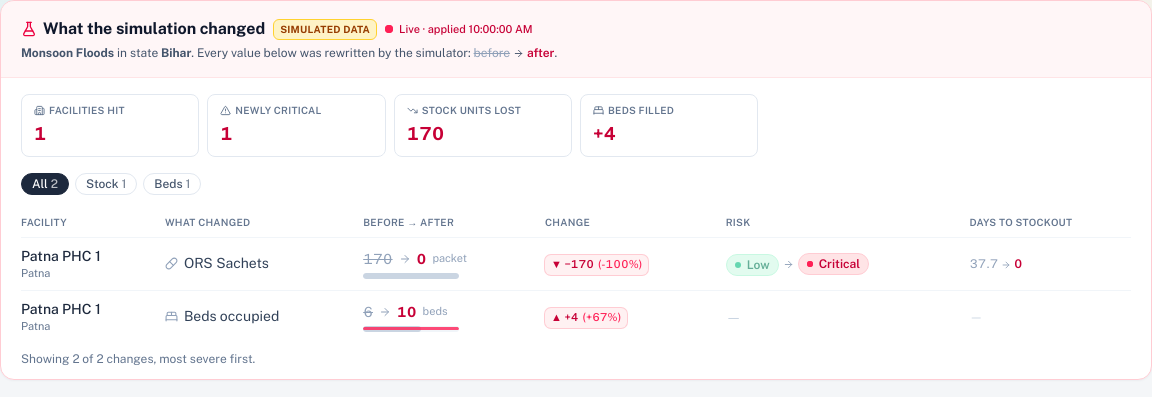
Test case: CrisisImpactPanel › filters rows by change type
Click the tab "Beds 1" at (172, 184), box [143, 173, 202, 195]
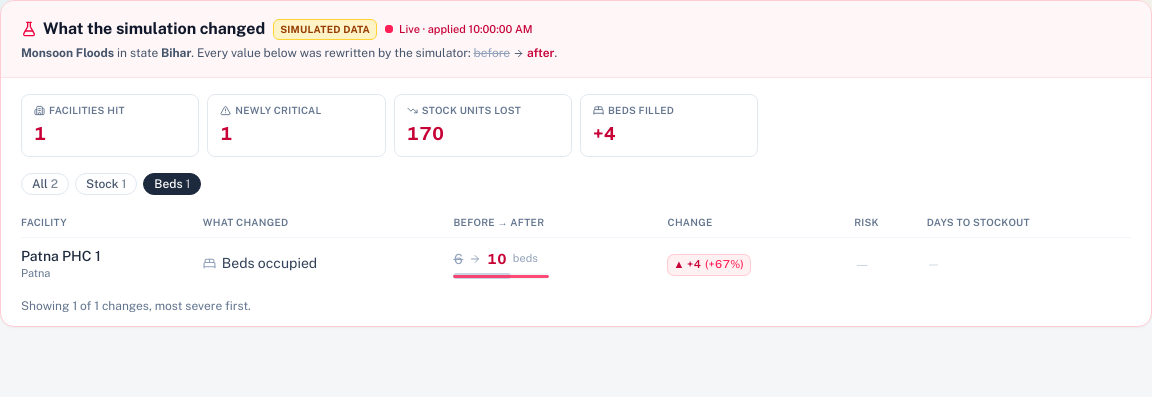
Check: the text "Beds occupied" is shown, box [203, 253, 317, 273]
Check: the text "ORS Sachets" is gone
